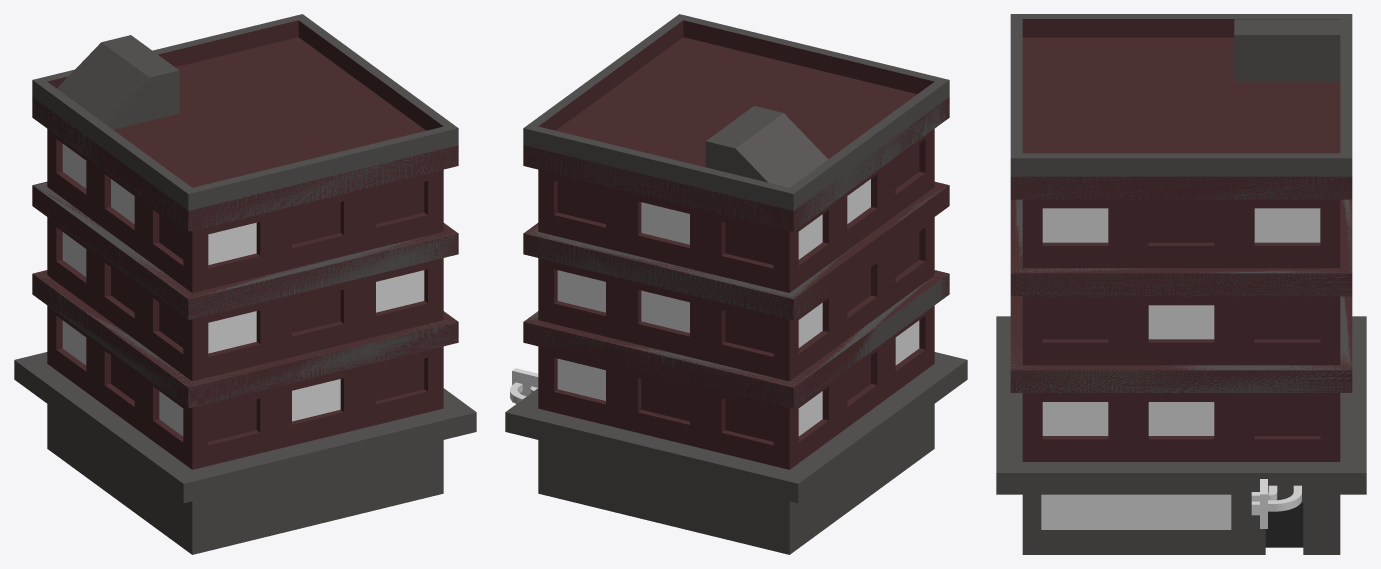
File: phrmacy.fbx
3 renders of one model, left to right at view 1: azimuth 30°, elevation 25°; view 2: azimuth 150°, elevation 25°; view 3: azimuth 270°, elevation 25°, orthographic. The views are drawn at different scales.
Visible parts, largest first — view 1: Plane.016; view 2: Plane.016; view 3: Plane.016.
Boxes of the visible parts, bbox=[...] form: Plane.016: bbox=[14, 14, 476, 554]; Plane.016: bbox=[505, 14, 967, 554]; Plane.016: bbox=[996, 14, 1366, 554].
Size of the model in its own units: 264 by 299 by 233.
